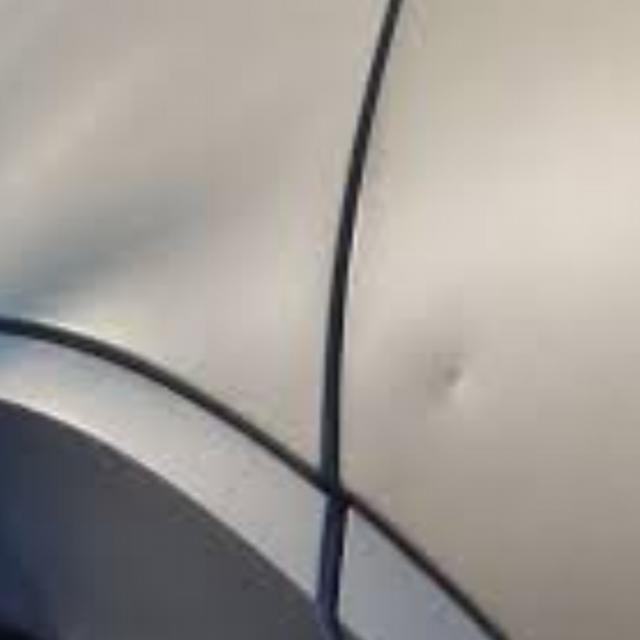dents: (422, 347, 487, 419)
